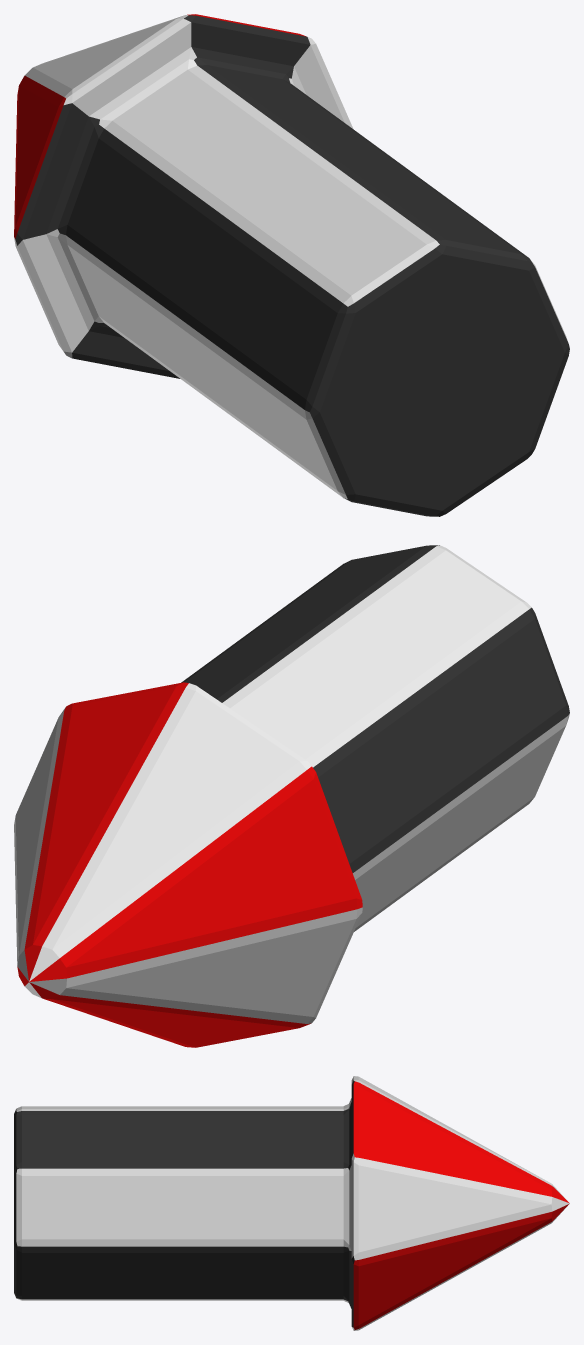
Rendered from RobotProjectiles.fbx.
3 views of the same model, one above another, from view 1: azimuth 30°, elevation 25°; view 2: azimuth 150°, elevation 25°; view 3: azimuth 270°, elevation 25° (orthographic). The views are drawn at different scales.
Visible parts, largest first — view 1: Cone.001; view 2: Cone.001; view 3: Cone.001.
Part boxes in pixels (box(x1,y1,x2,y2)): Cone.001: box(14, 14, 569, 516); Cone.001: box(14, 545, 569, 1047); Cone.001: box(14, 1076, 569, 1330).
Bounding box in the file's own units: 45.22 × 45.22 × 93.21.
